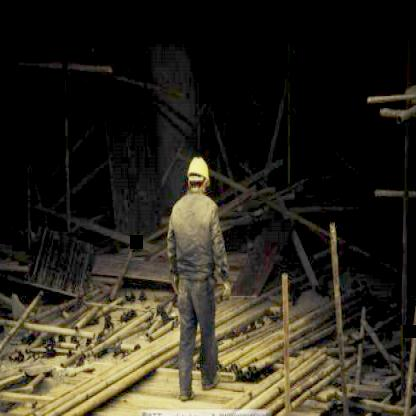helmet: (185, 154, 211, 196)
